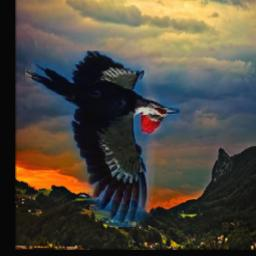Woodpecker: (25, 51, 180, 227)
